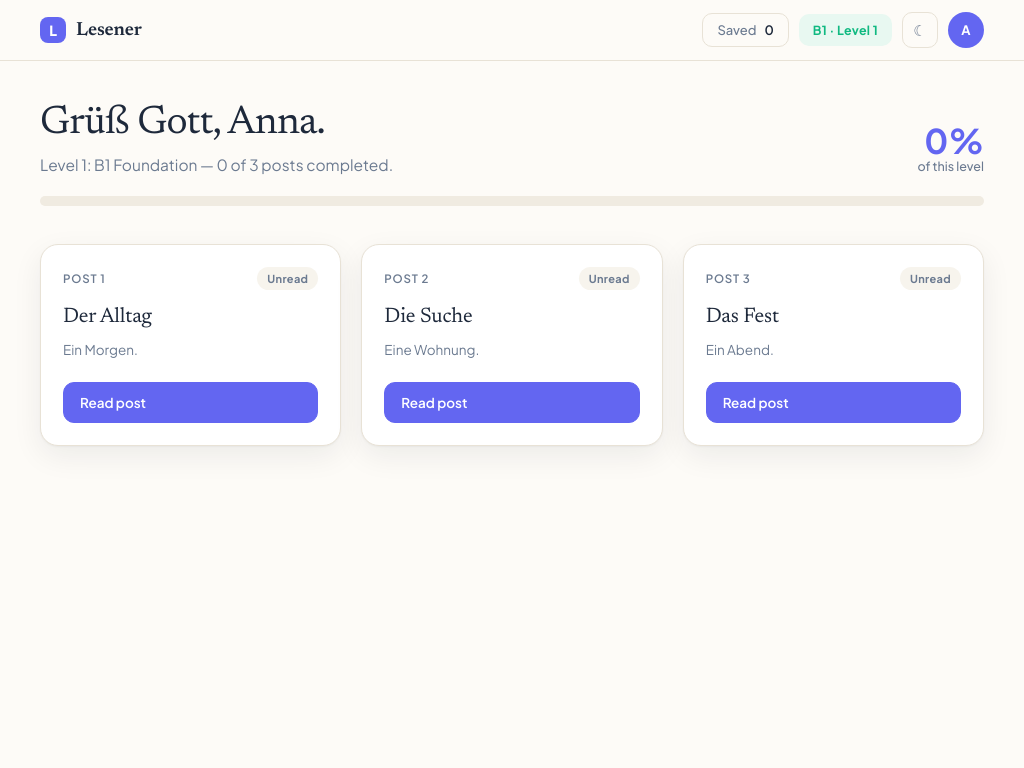
Test: pressing Finish › when the write does not land › leaves the post unmarked and says so
Click the button "Read post" below "Ein Morgen.": point(191, 402) [63,382,318,423]
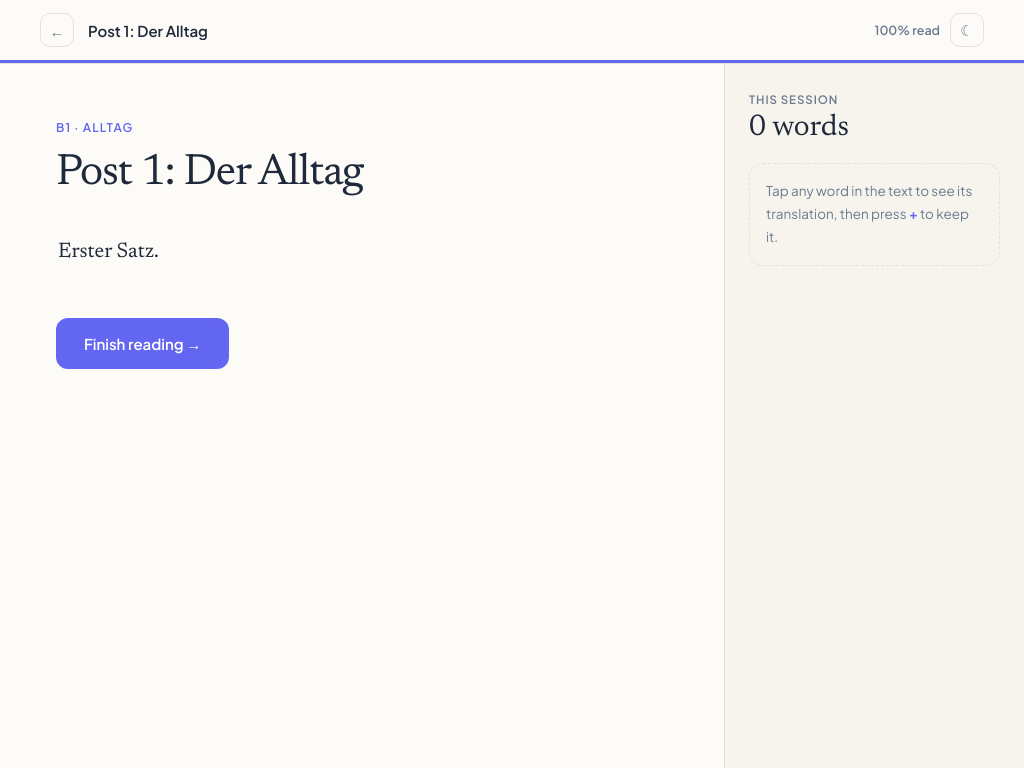
Click the button "Finish reading →": point(143, 344) [56,318,229,369]
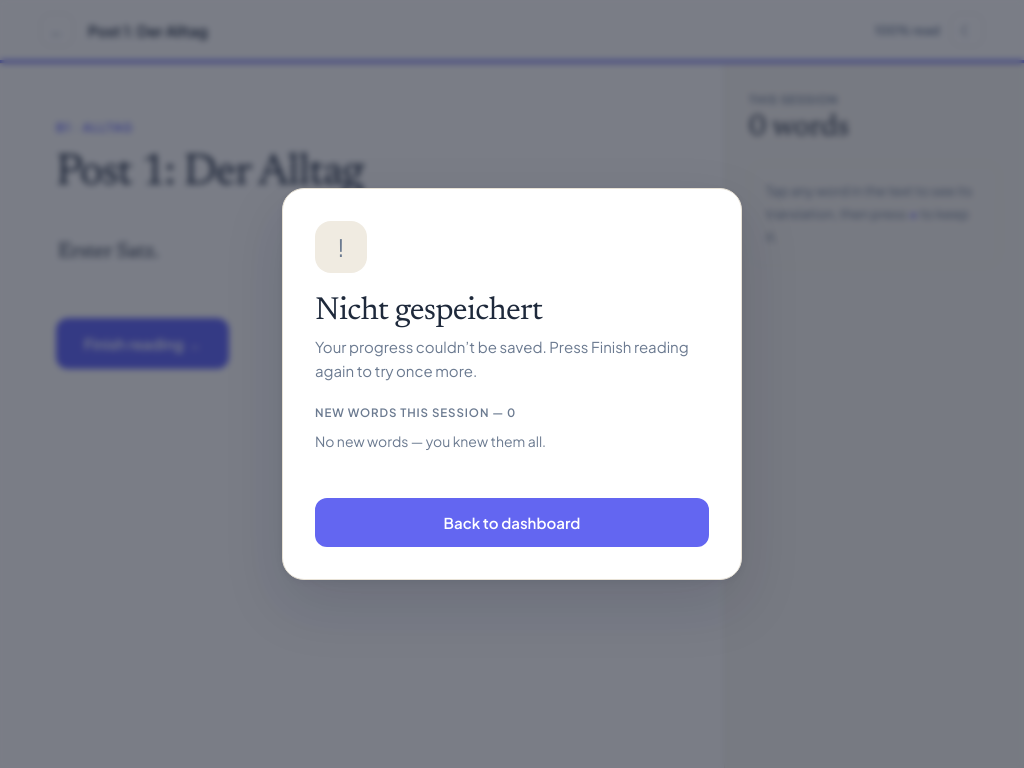
Check: the text "progress couldn’t be saved" is shown, box [315,337,689,380]
Click the button "Back to dashboard": point(512, 523) [315,498,709,547]
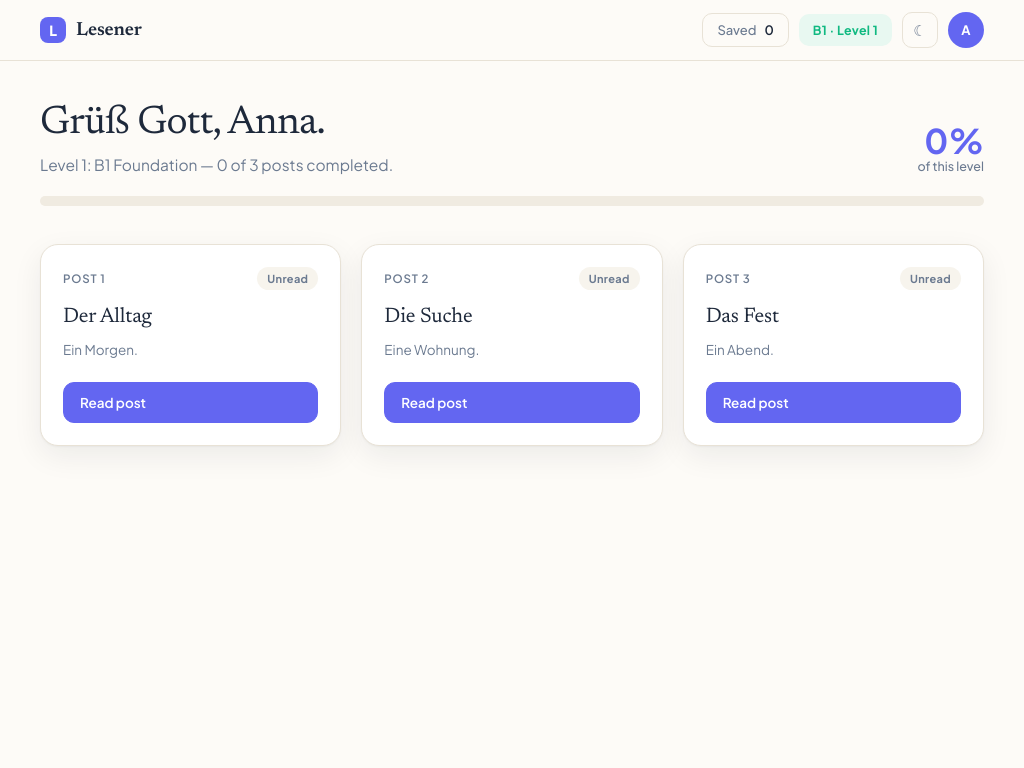
Check: the text "Level 1: B1 Foundation — 0 of 3 posts completed." is shown, box [40,155,393,174]
